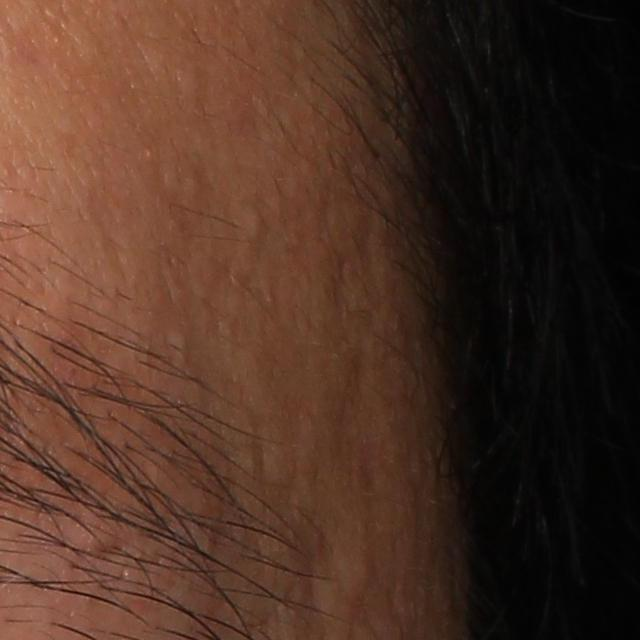comedo: (237, 209, 267, 242)
